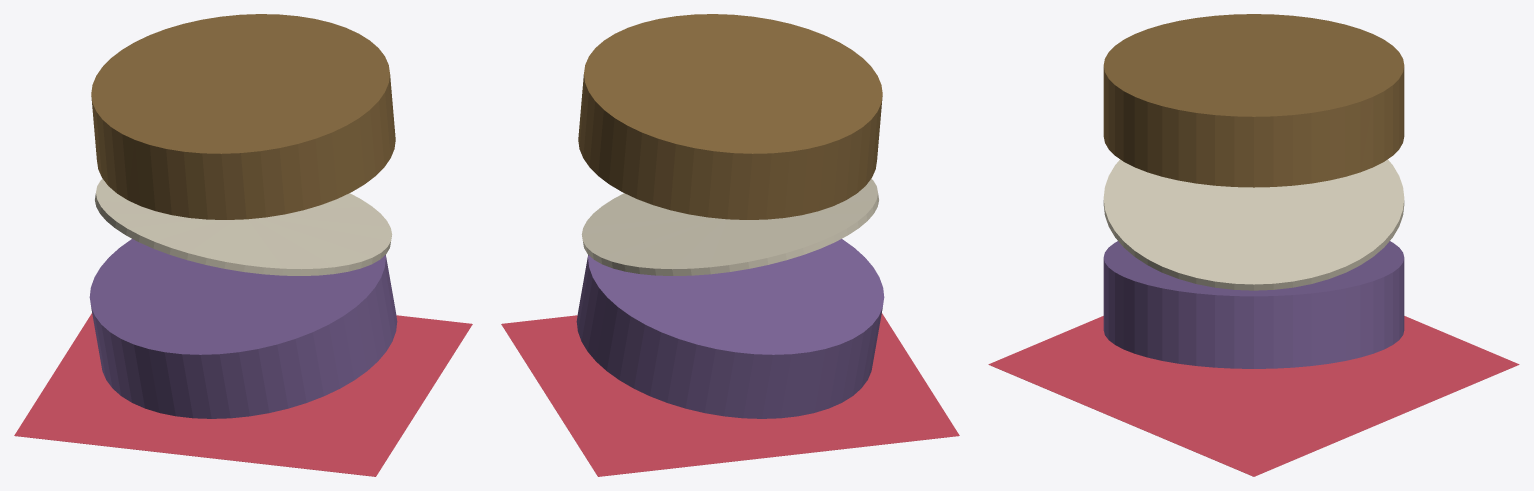
Rendered from UVC.glb.
The picture shows the model from 3 angles, left to right: view 1: azimuth 30°, elevation 25°; view 2: azimuth 150°, elevation 25°; view 3: azimuth 270°, elevation 25°; orthographic projection.
Parts seen in each view (by area): view 1: Mesh_Mesh_head_geo.001_lambert2SG.001; view 2: Mesh_Mesh_head_geo.001_lambert2SG.001; view 3: Mesh_Mesh_head_geo.001_lambert2SG.001.
Part boxes in pixels (x1,y1,x2,y2): Mesh_Mesh_head_geo.001_lambert2SG.001: (14, 14, 472, 476); Mesh_Mesh_head_geo.001_lambert2SG.001: (501, 14, 959, 476); Mesh_Mesh_head_geo.001_lambert2SG.001: (988, 14, 1519, 476).
Bounding box in the file's own units: 0.0354 × 0.0227 × 0.0354.
